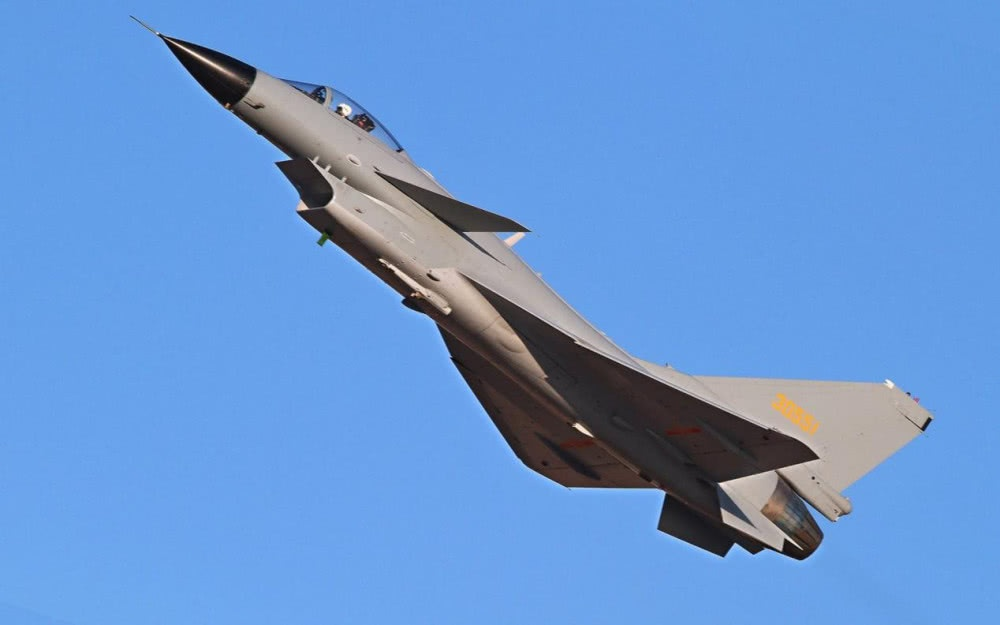airplane: (122, 17, 937, 583)
